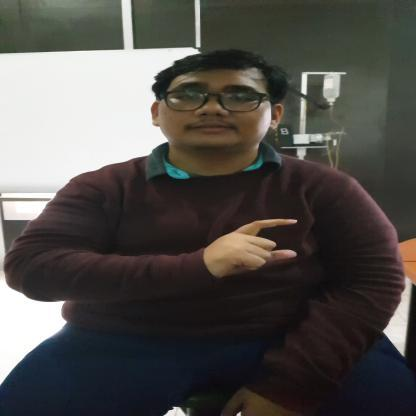C: (202, 218, 300, 273)
